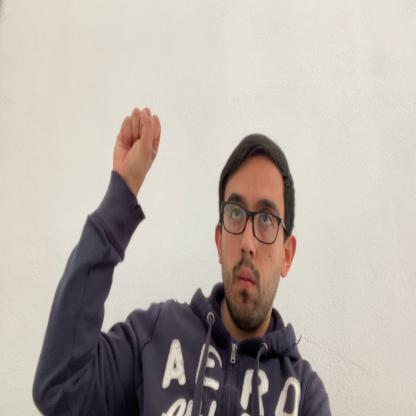S: (112, 105, 161, 189)
